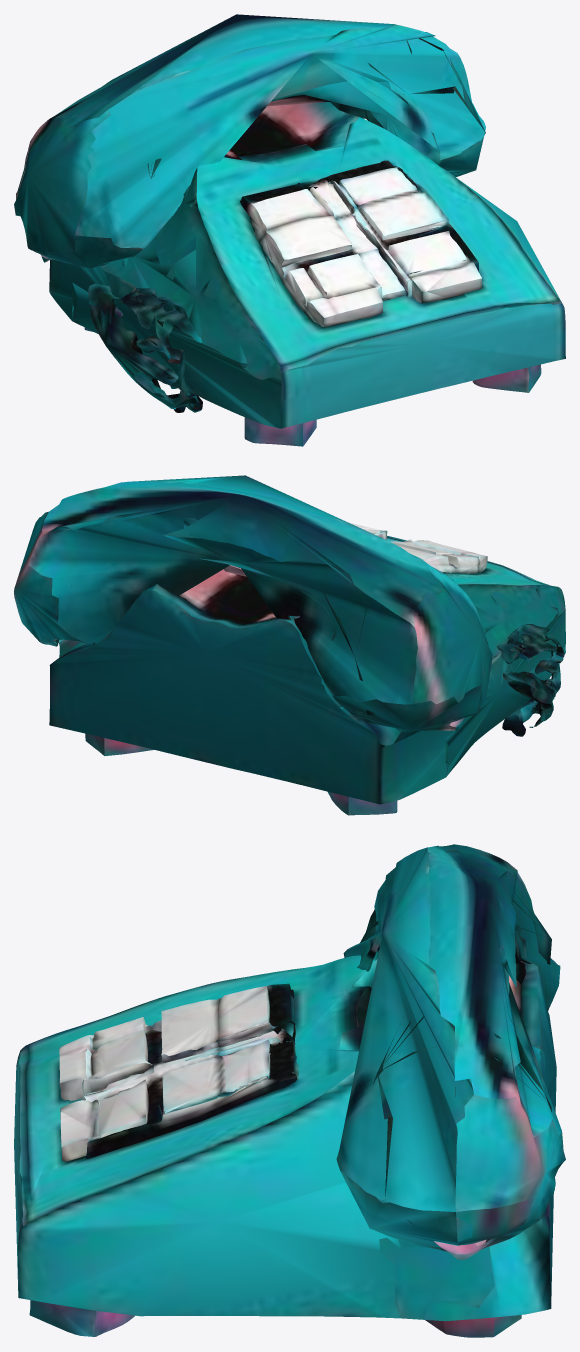
3 renders of one model, top to bottom at view 1: azimuth 30°, elevation 25°; view 2: azimuth 150°, elevation 25°; view 3: azimuth 270°, elevation 25°, orthographic. The views are drawn at different scales.
Visible parts, largest first — view 1: world; view 2: world; view 3: world.
Part boxes in pixels (x1,y1,x2,y2): world: [14, 14, 565, 446]; world: [14, 475, 565, 815]; world: [14, 844, 565, 1337].
Bounding box in the file's own units: 0.4346 × 0.2547 × 0.3577.
Materials: 1 (1 with a texture image).
